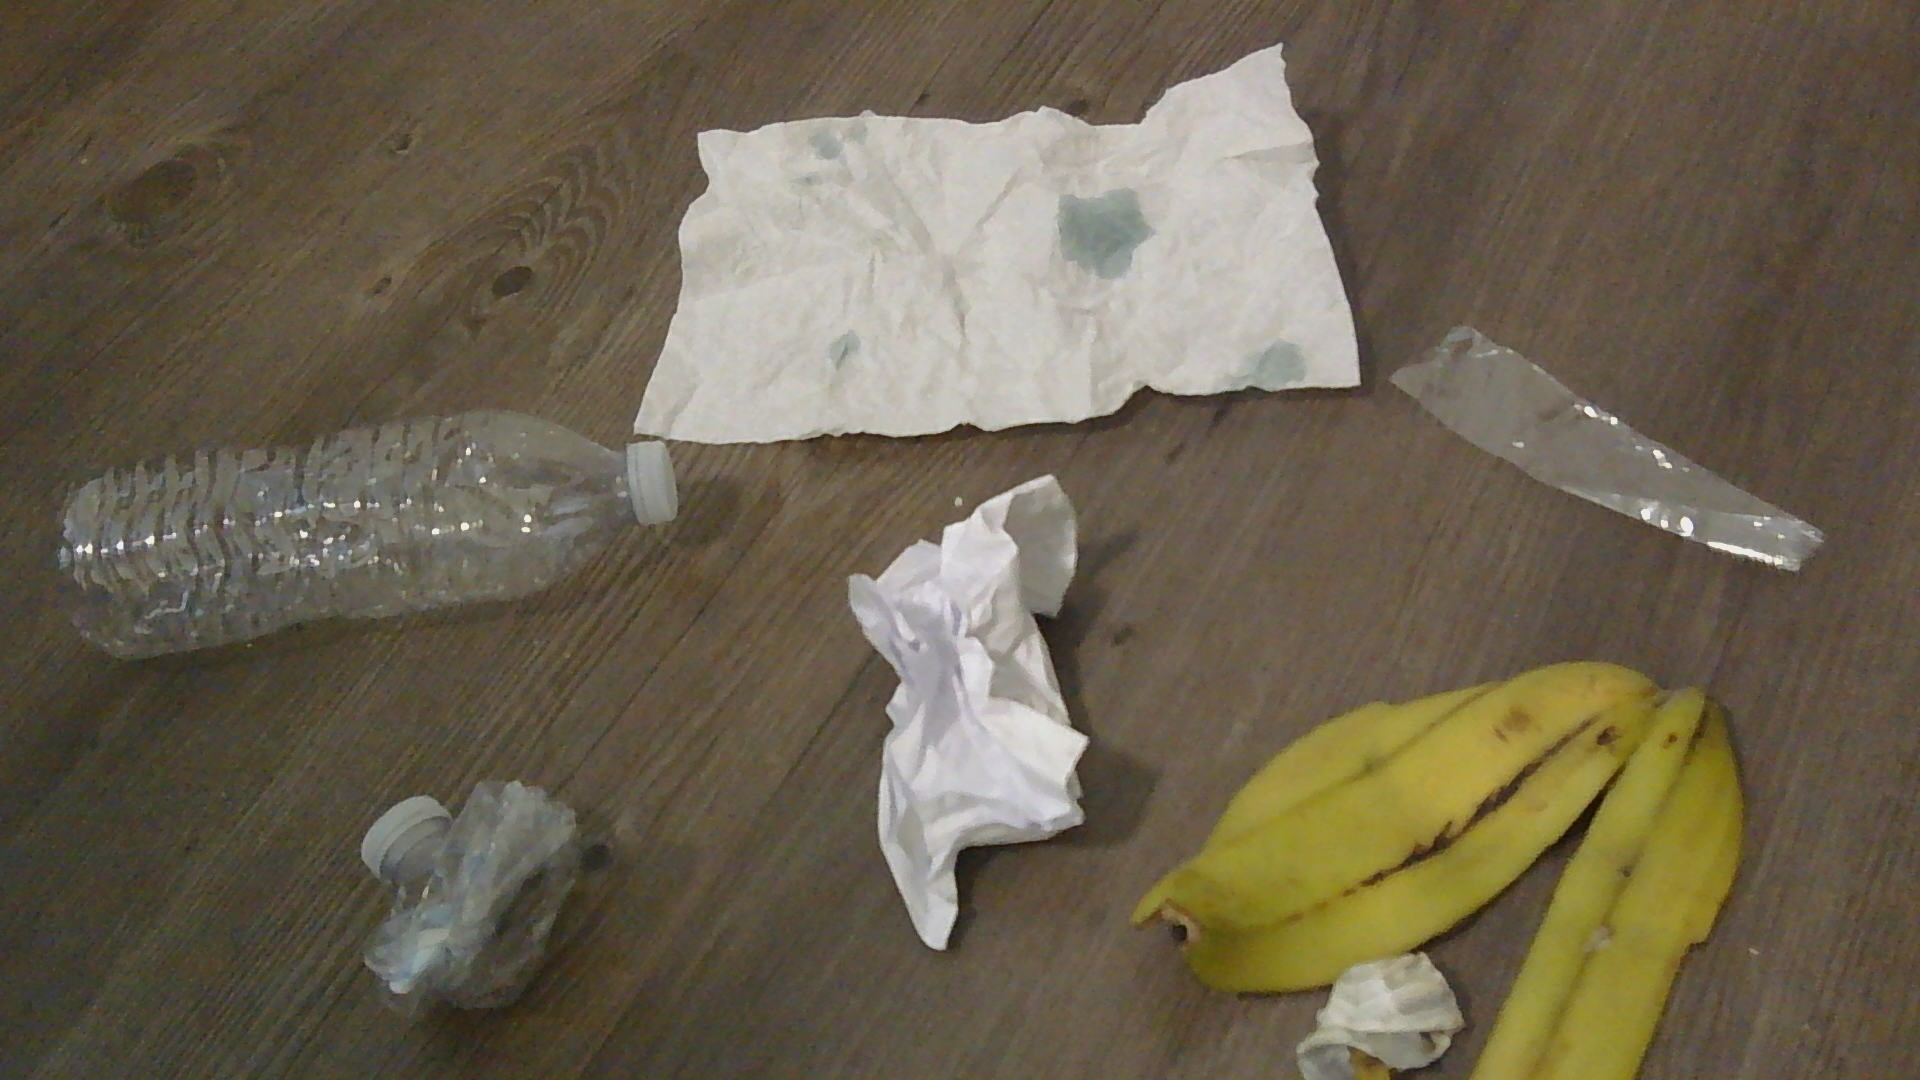banana peel: (1138, 665, 1739, 1079)
bottle: (54, 402, 626, 663)
crushed bottle: (353, 774, 615, 1011)
napkin: (630, 42, 1360, 447)
paper: (1298, 953, 1462, 1079)
paper ball: (847, 473, 1083, 951)
plastic piece: (1386, 318, 1826, 567)
